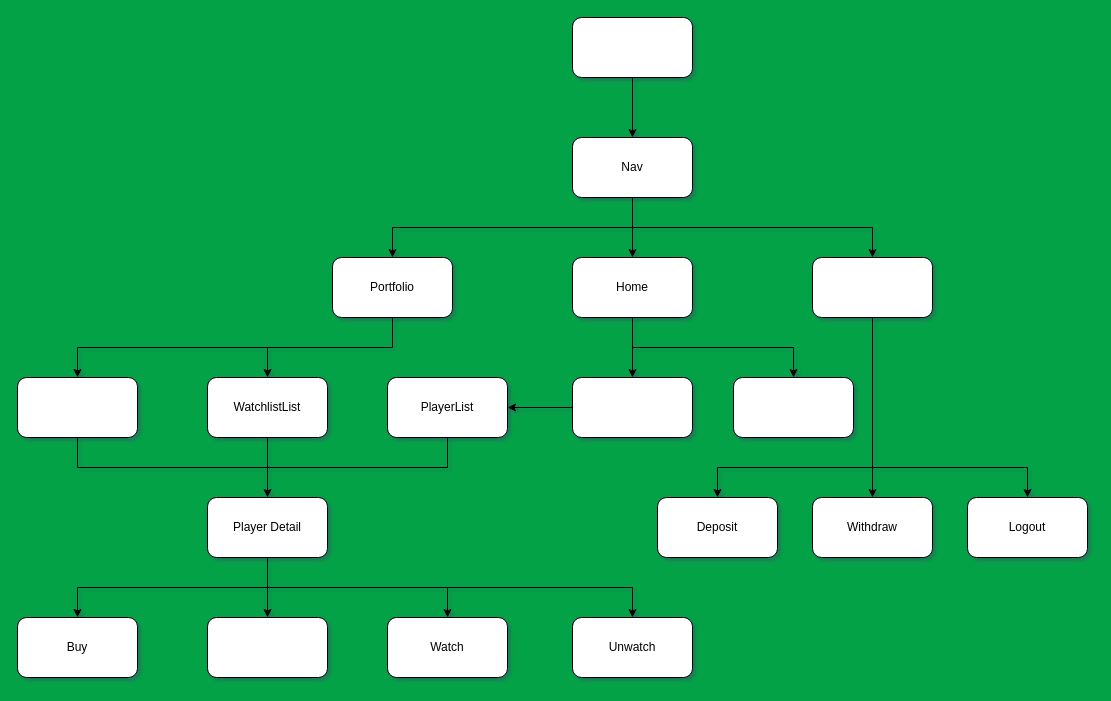
This 1111x701 diagram has some shape labels left out. The shapes that lost their labels are listed below. From the top down, each one's centre as x and y in pixels, then its label:
At pixel 632 47: "App".
At pixel 872 287: "Account".
At pixel 77 407: "PortfolioList".
At pixel 632 407: "SearchBar".
At pixel 793 407: "Carousel".
At pixel 267 647: "Sell".
